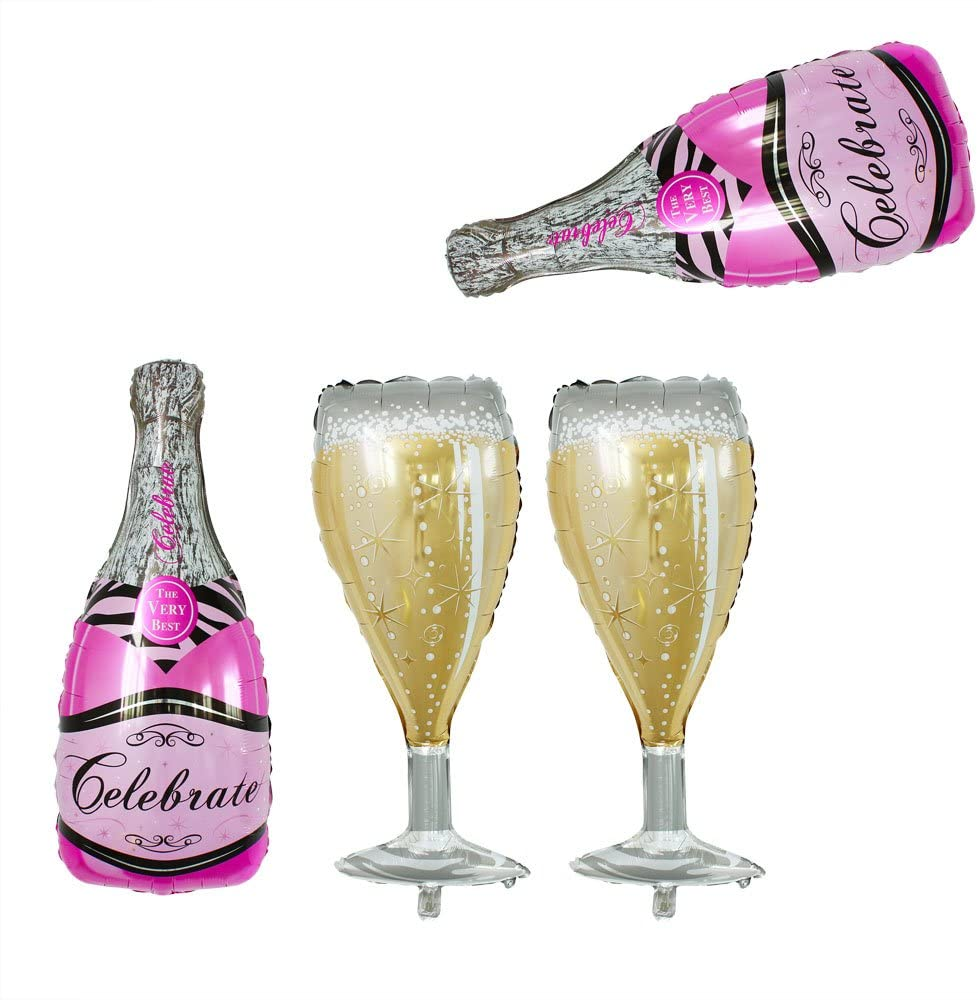glass_bottle: (439, 34, 978, 309), (537, 363, 773, 925), (305, 373, 537, 920), (51, 353, 280, 903)
